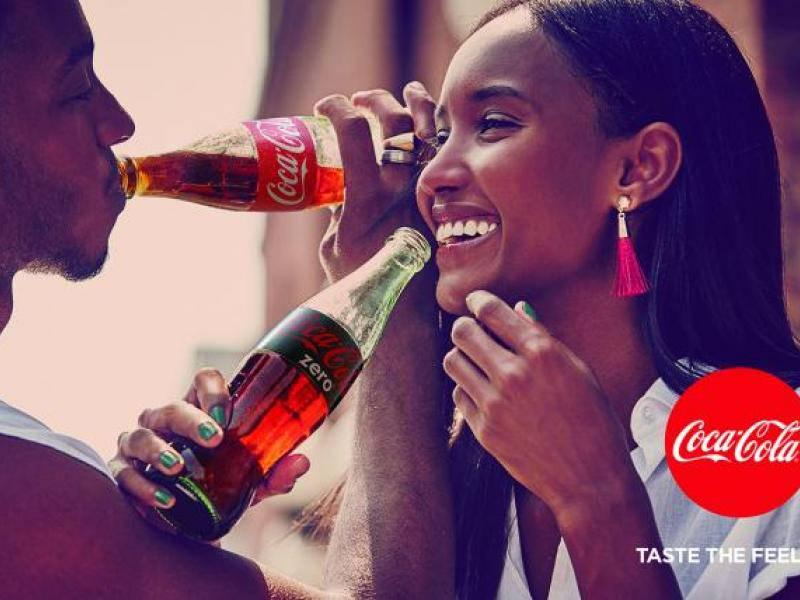Coca-Cola: (175, 210, 419, 505), (150, 118, 348, 202)
